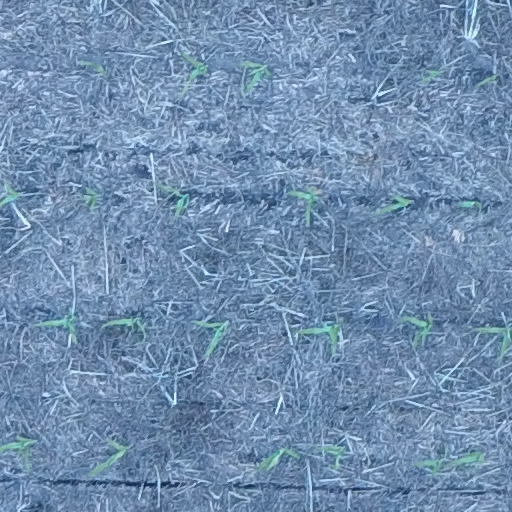planta: (87, 438, 129, 477), (297, 319, 343, 352), (192, 319, 230, 356), (179, 51, 209, 94), (37, 310, 76, 340), (286, 187, 317, 224), (398, 314, 435, 345), (105, 314, 148, 339), (238, 60, 271, 92), (258, 446, 301, 470), (158, 184, 189, 217), (316, 443, 346, 471), (375, 193, 412, 215), (415, 456, 447, 476), (447, 451, 485, 467), (83, 186, 99, 209), (457, 199, 484, 210), (419, 68, 440, 82), (476, 73, 497, 87), (83, 60, 105, 73)
